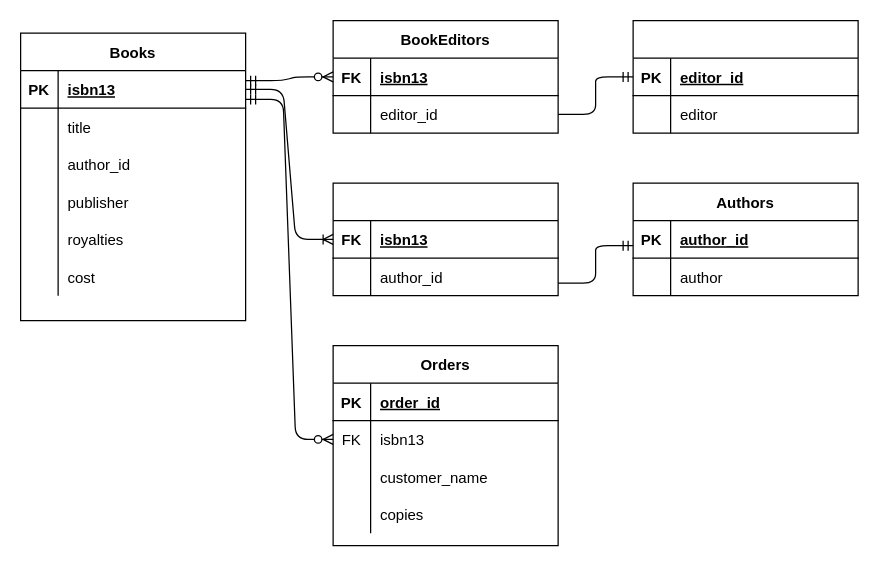
Image size: 879x566. Some labels were removed from this diagram. Each missing label, with the box of its shape:
BookAuthors: (332, 182, 558, 296)
Editors: (632, 19, 858, 133)
